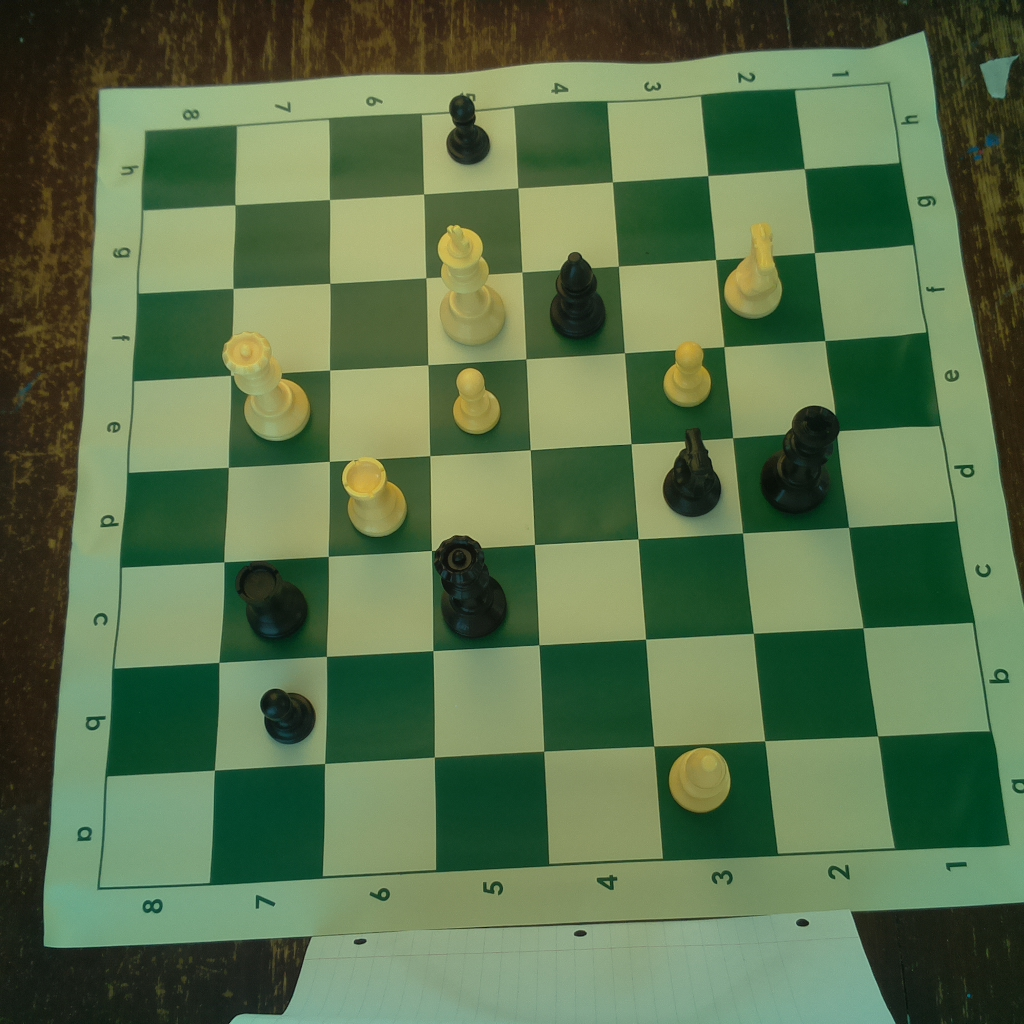black_bishop: (546, 245, 608, 341)
black_king: (762, 400, 842, 517)
black_knight: (658, 422, 725, 518)
black_pawn: (442, 95, 498, 166), (259, 684, 319, 748)
black_queen: (432, 532, 511, 640)
black_rook: (234, 561, 311, 645)
file_a: (99, 732, 1010, 888)
file_b: (106, 621, 992, 779)
file_c: (114, 525, 976, 673)
file_d: (121, 426, 958, 569)
file_e: (128, 332, 942, 474)
file_f: (131, 245, 927, 383)
file_g: (138, 165, 919, 293)
file_h: (142, 86, 901, 209)
outline: (98, 79, 1011, 887)
rank_1: (797, 82, 1010, 853)
rank_2: (702, 88, 894, 852)
rank_3: (606, 93, 779, 860)
rank_4: (514, 101, 663, 864)
rank_5: (421, 106, 551, 875)
rank_6: (321, 115, 437, 875)
rank_7: (208, 118, 327, 884)
rank_8: (99, 127, 240, 887)
white_bishop: (662, 740, 737, 819)
white_king: (433, 223, 512, 351)
white_knight: (720, 219, 786, 323)
white_pawn: (444, 360, 505, 434), (658, 336, 716, 406)
white_queen: (218, 327, 314, 439)
white_rook: (332, 451, 410, 539)
